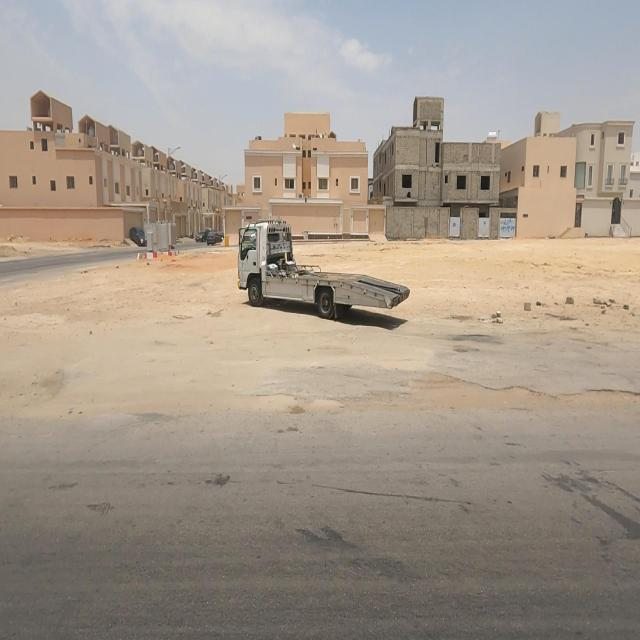Graffiti: (501, 220, 517, 234)
